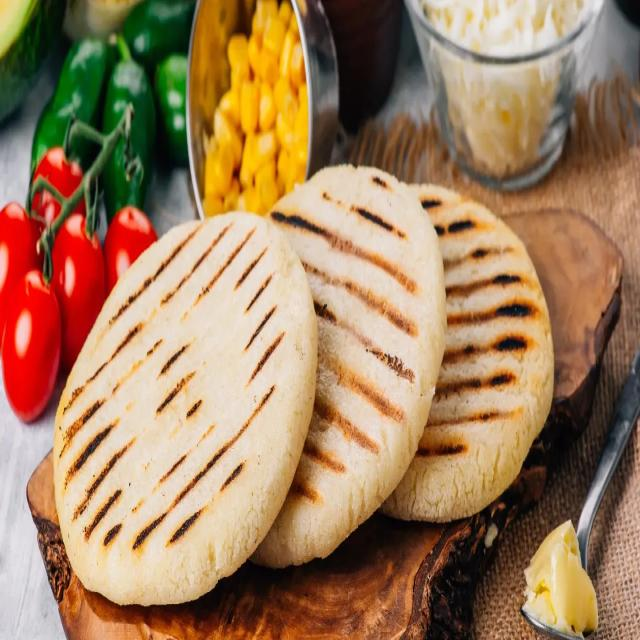arepa: (52, 212, 319, 620)
